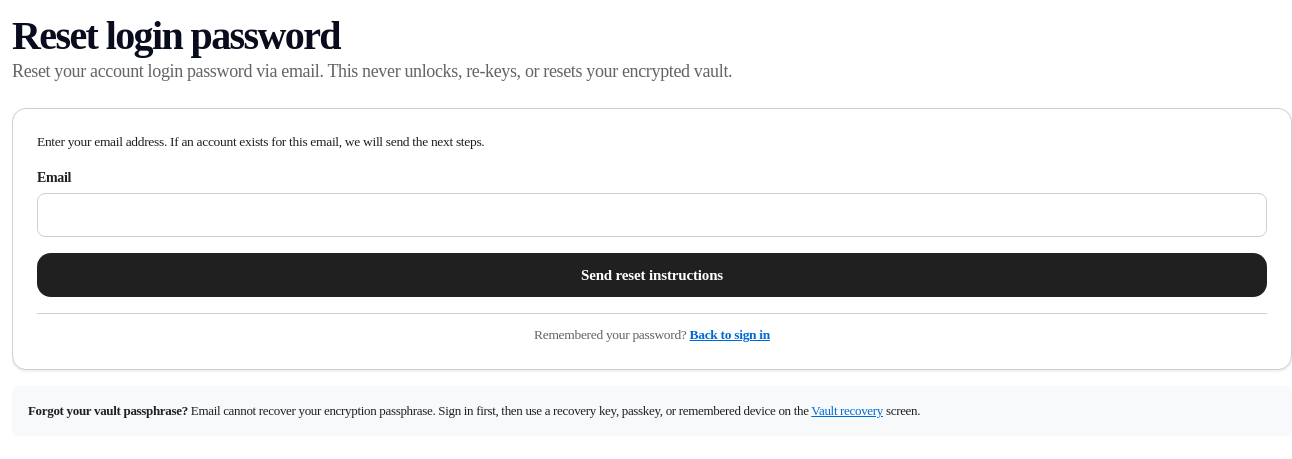
Test: ForgotPasswordForm states and problem-code mapping (ADR 0006 §9.2) › maps invalid_request (400) to localized UI copy without leaking raw problem title/detail
In the field labelled "Email": coordinates (652, 215) x1=37 y1=193 x2=1267 y2=237, type "user@example.com"
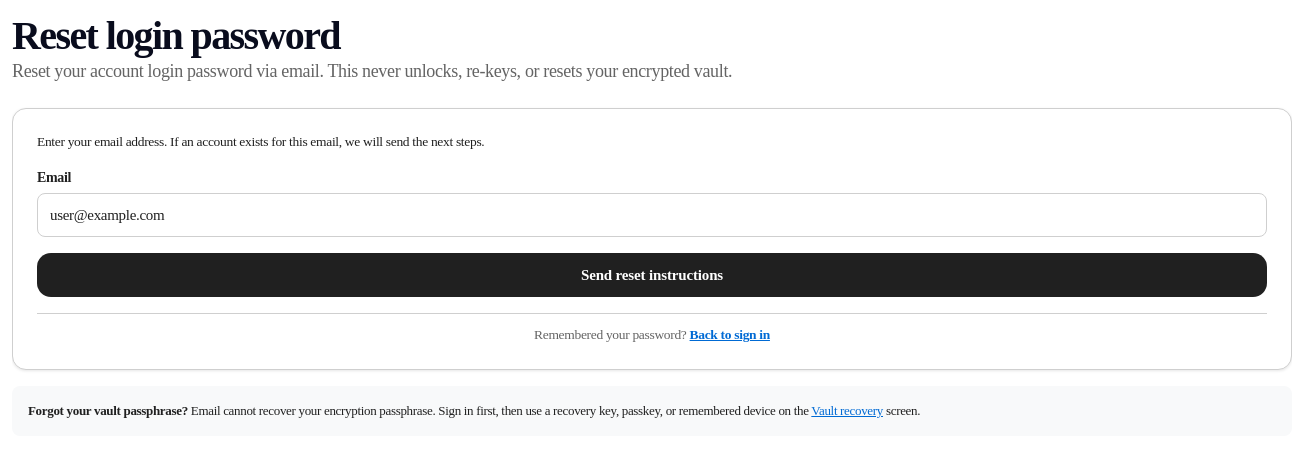
Submit the form labelled "email", box x1=12 y1=108 x2=1291 y2=370
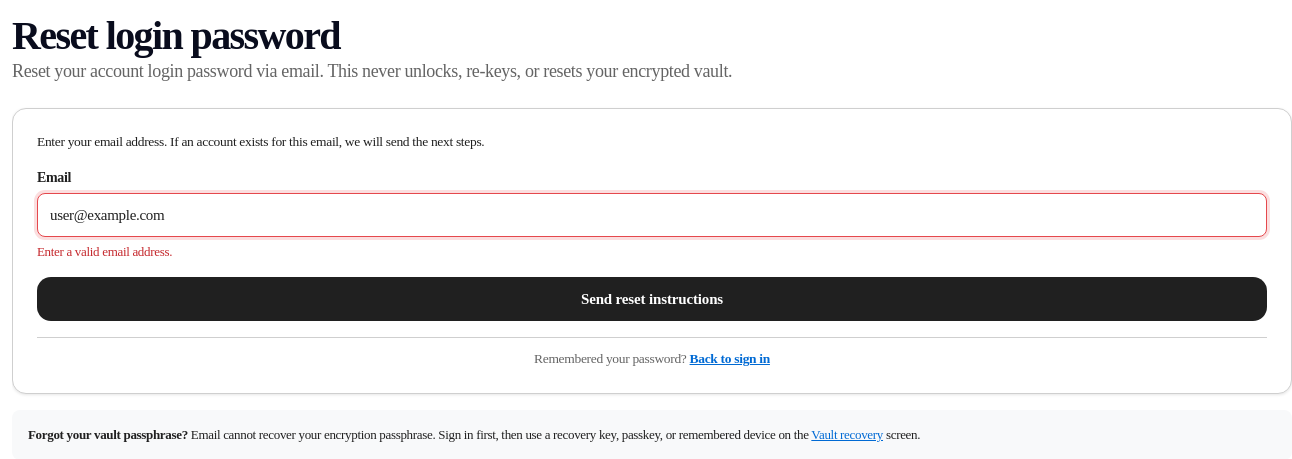
Now the text "Enter a valid email address." is shown, box x1=37 y1=244 x2=172 y2=259
